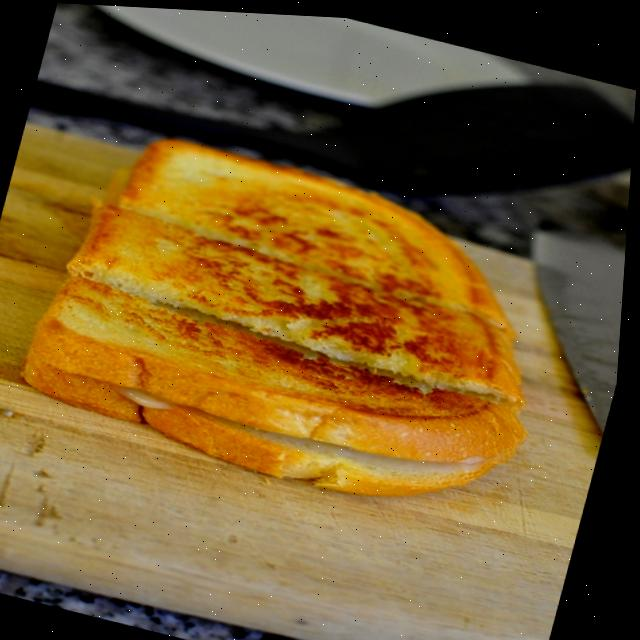面包点心: (0, 48, 602, 579)
